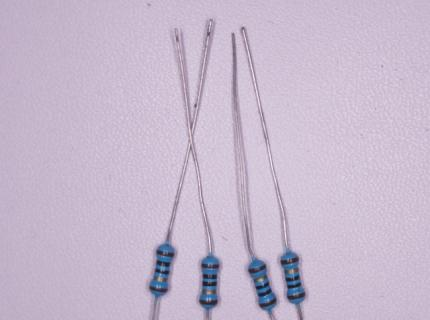Black band: (257, 289, 273, 298), (155, 260, 171, 268), (255, 282, 270, 290), (287, 282, 302, 290), (285, 275, 301, 282), (155, 268, 170, 275), (202, 281, 218, 286), (203, 274, 218, 279)
Brown band: (248, 264, 267, 275), (259, 298, 278, 309), (148, 284, 168, 294), (155, 249, 175, 258), (287, 292, 307, 301), (281, 257, 300, 265), (201, 263, 220, 269), (200, 300, 218, 306)
Gold band: (253, 275, 269, 284), (284, 267, 299, 275), (153, 276, 168, 283), (202, 289, 217, 295)
